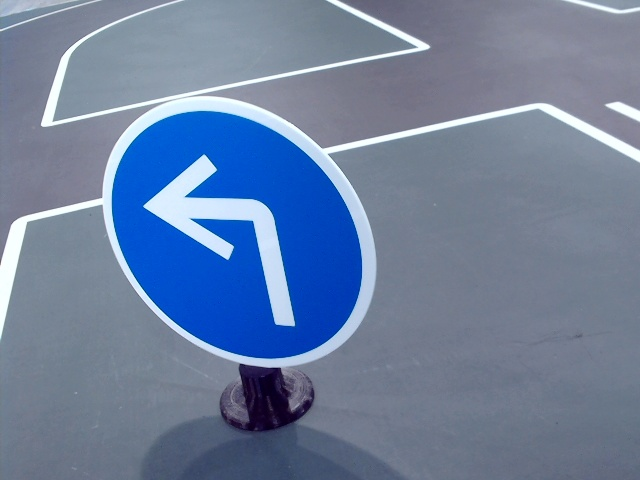turn_left: (141, 145, 311, 333)
